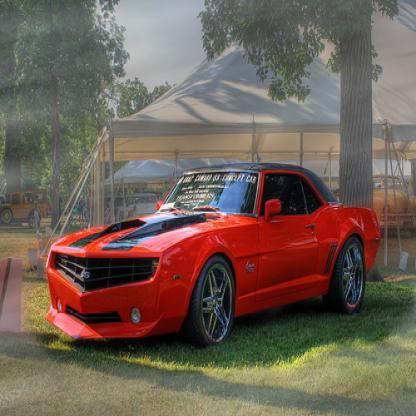car: (37, 157, 384, 345)
